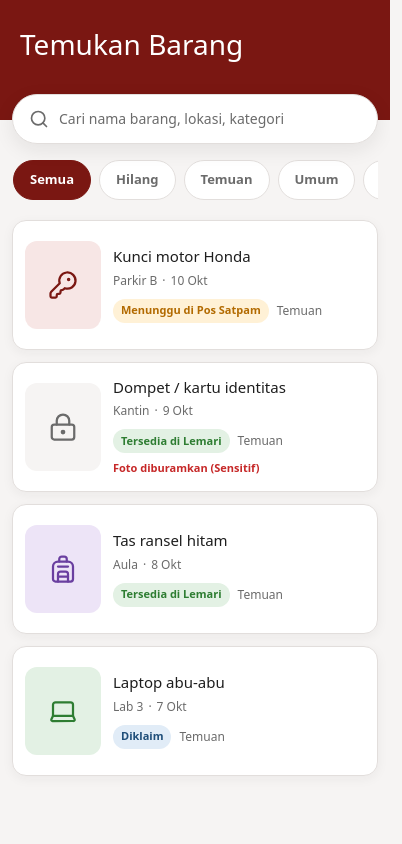
Scenario: CatalogPage › shows an empty state when a filter has no matching items
Click the button "Hilang" at (137, 180), box [99, 160, 176, 200]
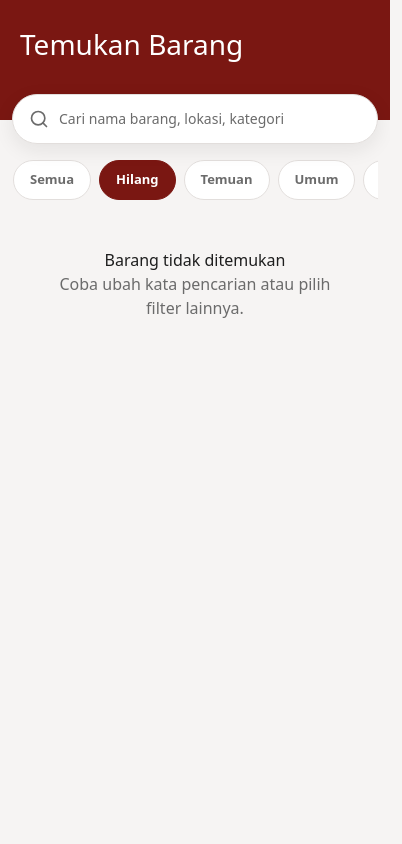
Check: the heading "Barang tidak ditemukan" is shown, box [104, 249, 286, 271]
